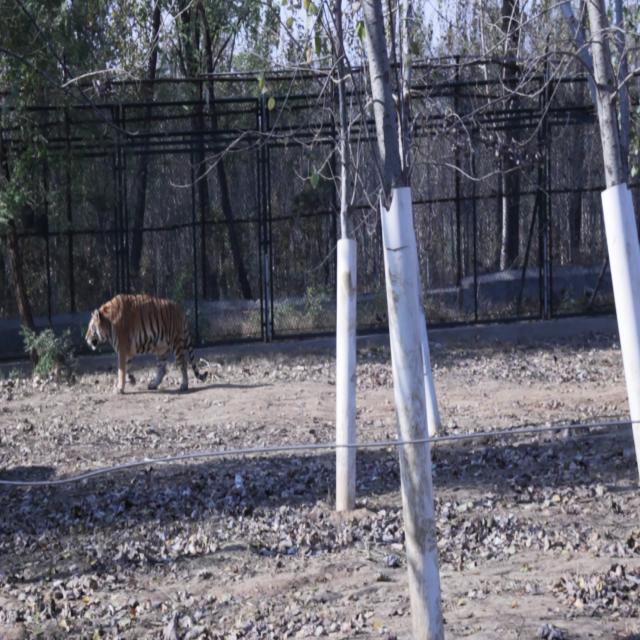Tiger: (78, 280, 212, 393)
